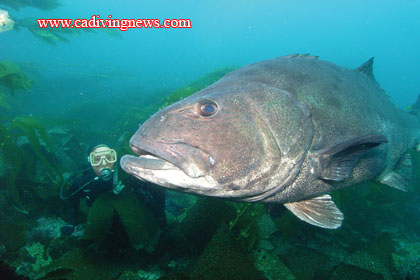Giant Bass: (100, 47, 420, 233)
